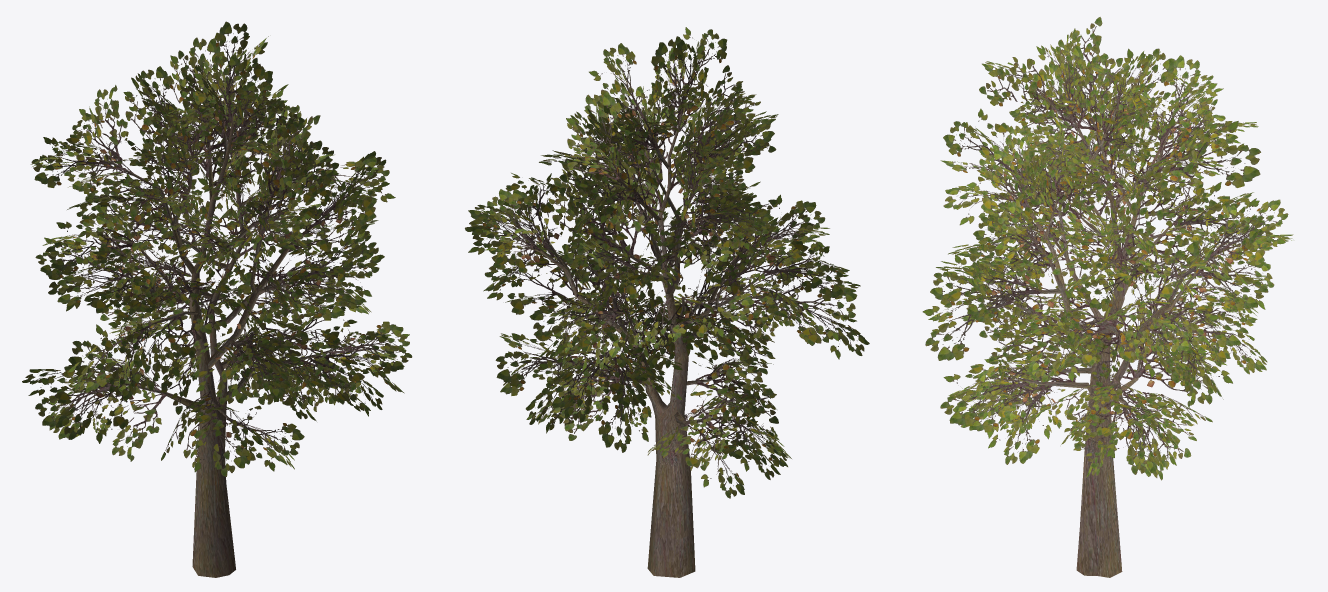
3 renders of one model, left to right at view 1: azimuth 30°, elevation 25°; view 2: azimuth 150°, elevation 25°; view 3: azimuth 270°, elevation 25°, orthographic. The views are drawn at different scales.
Parts seen in each view (by area): view 1: Mesh_0349.rip; view 2: Mesh_0349.rip; view 3: Mesh_0349.rip.
Part boxes in pixels (box(x1,y1,x2,y2)): Mesh_0349.rip: box(22, 21, 412, 577); Mesh_0349.rip: box(465, 27, 869, 577); Mesh_0349.rip: box(922, 17, 1293, 577).
Size of the model in its own units: 11.75 by 16.4 by 11.19.
Materials: 1 (1 with a texture image).
